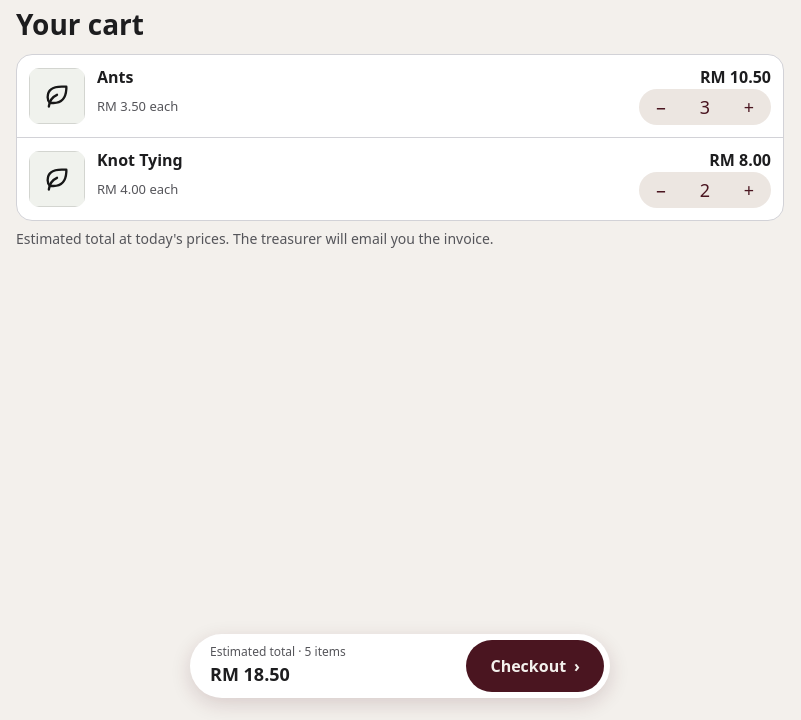
Test: CartScreen removal and Undo › removes the line with the trash, says it in the status region, and Undo restores the quantity and focuses its number field
The width and height of the screenshot is (801, 720).
Click the button named "One fewer Ants" at (661, 107), box [639,85,683,129]
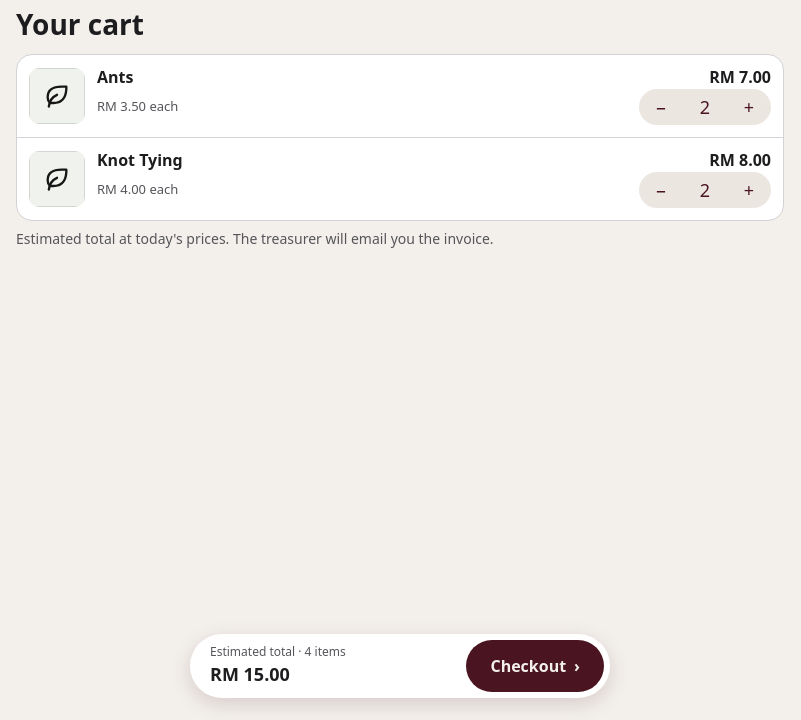
Click the button named "One fewer Ants" at (661, 107), box [639,85,683,129]
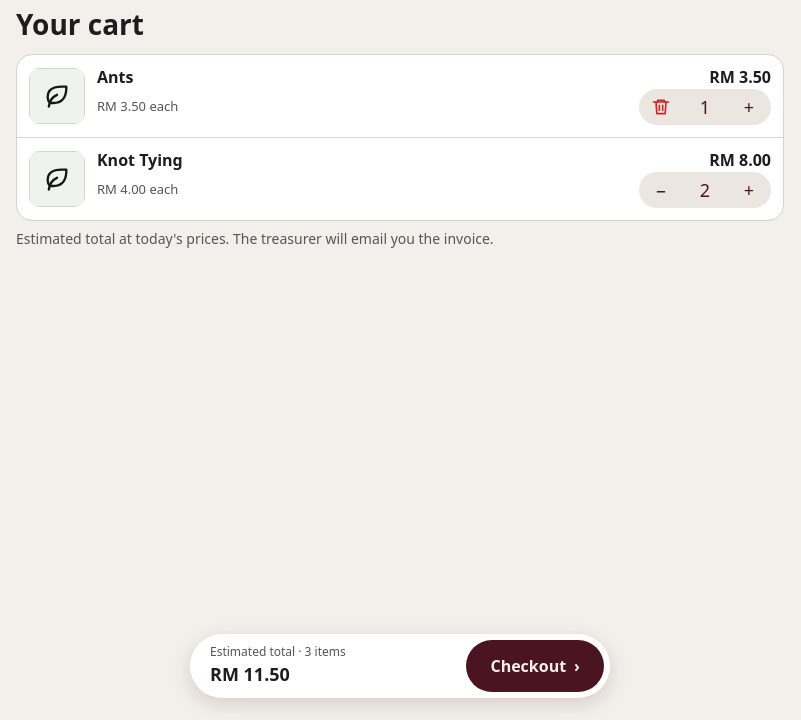
Click the button named "Remove Ants" at (661, 107), box [639,85,683,129]
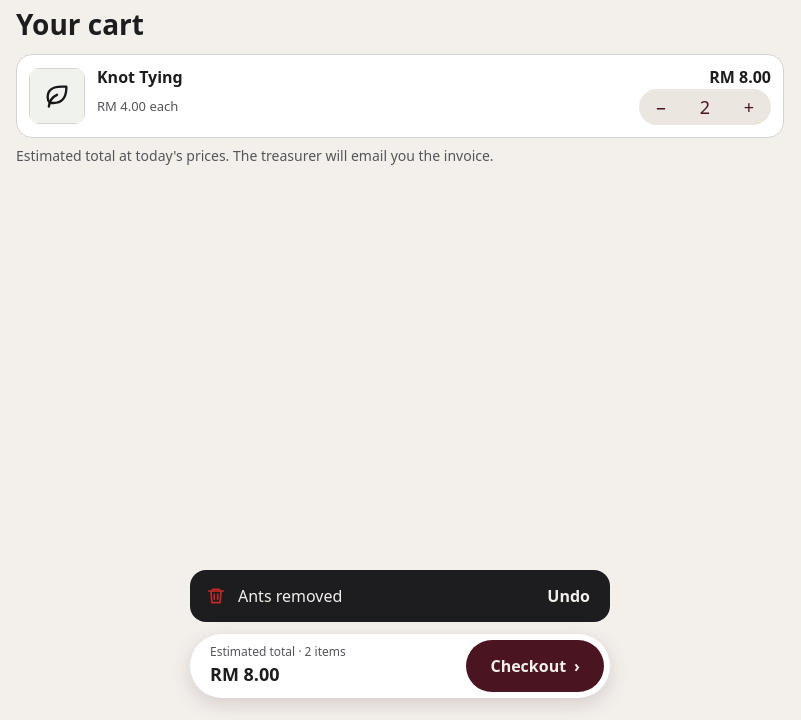
Click the button named "One more Knot Tying" at (749, 107), box [727,85,771,129]
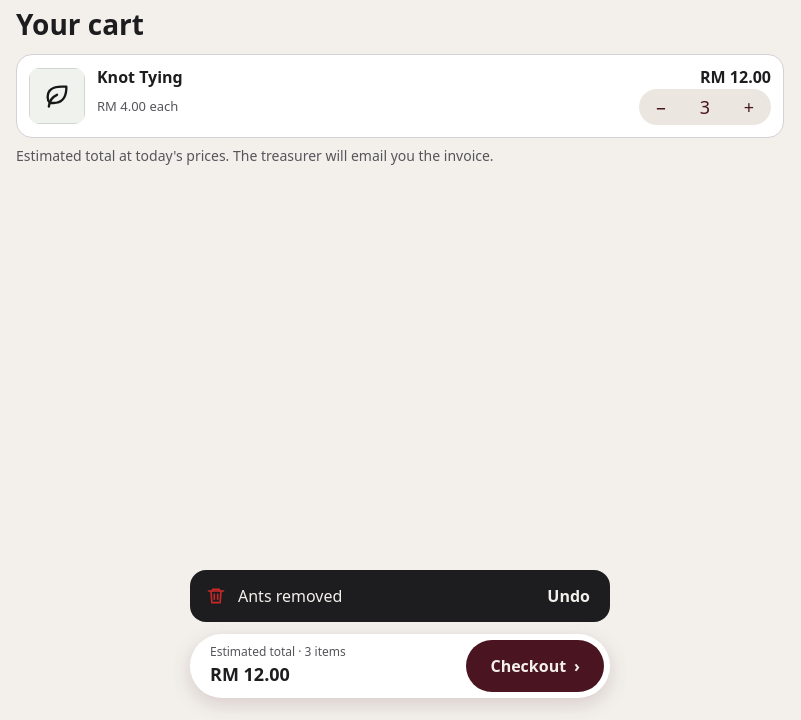
Click the button with aria-label "Undo removing Ants" at (569, 596), box [531,574,606,618]
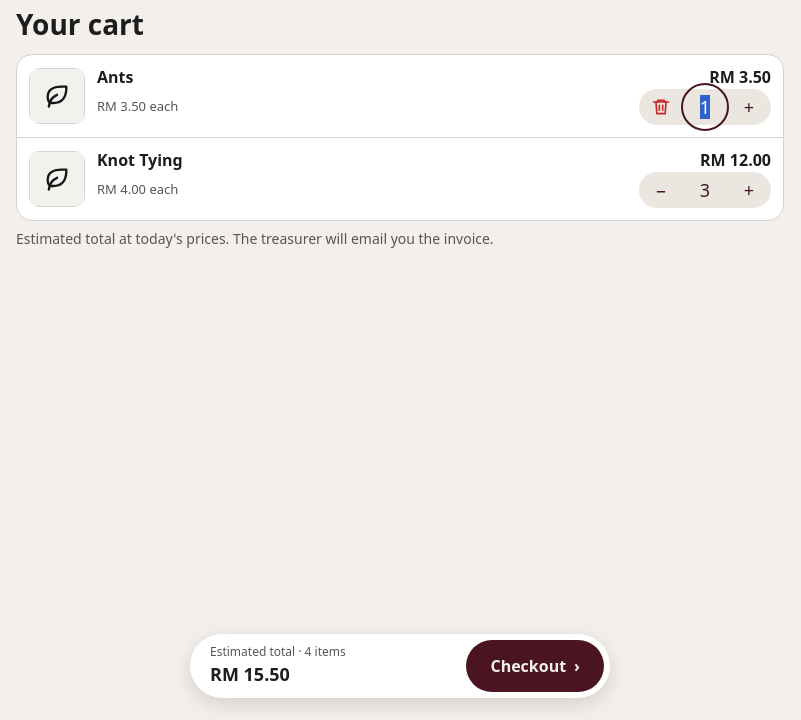
Expected: the field named "Quantity of Ants" holds "1", [683,85,727,129]
